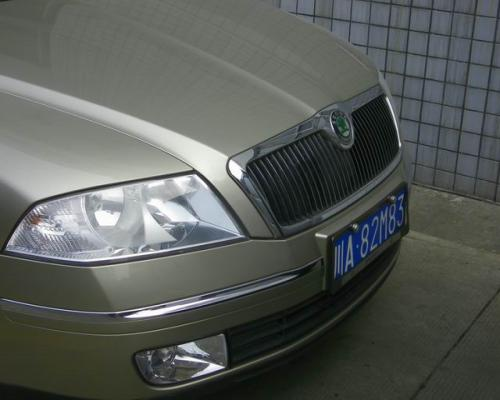Carplate: (324, 180, 415, 292)
